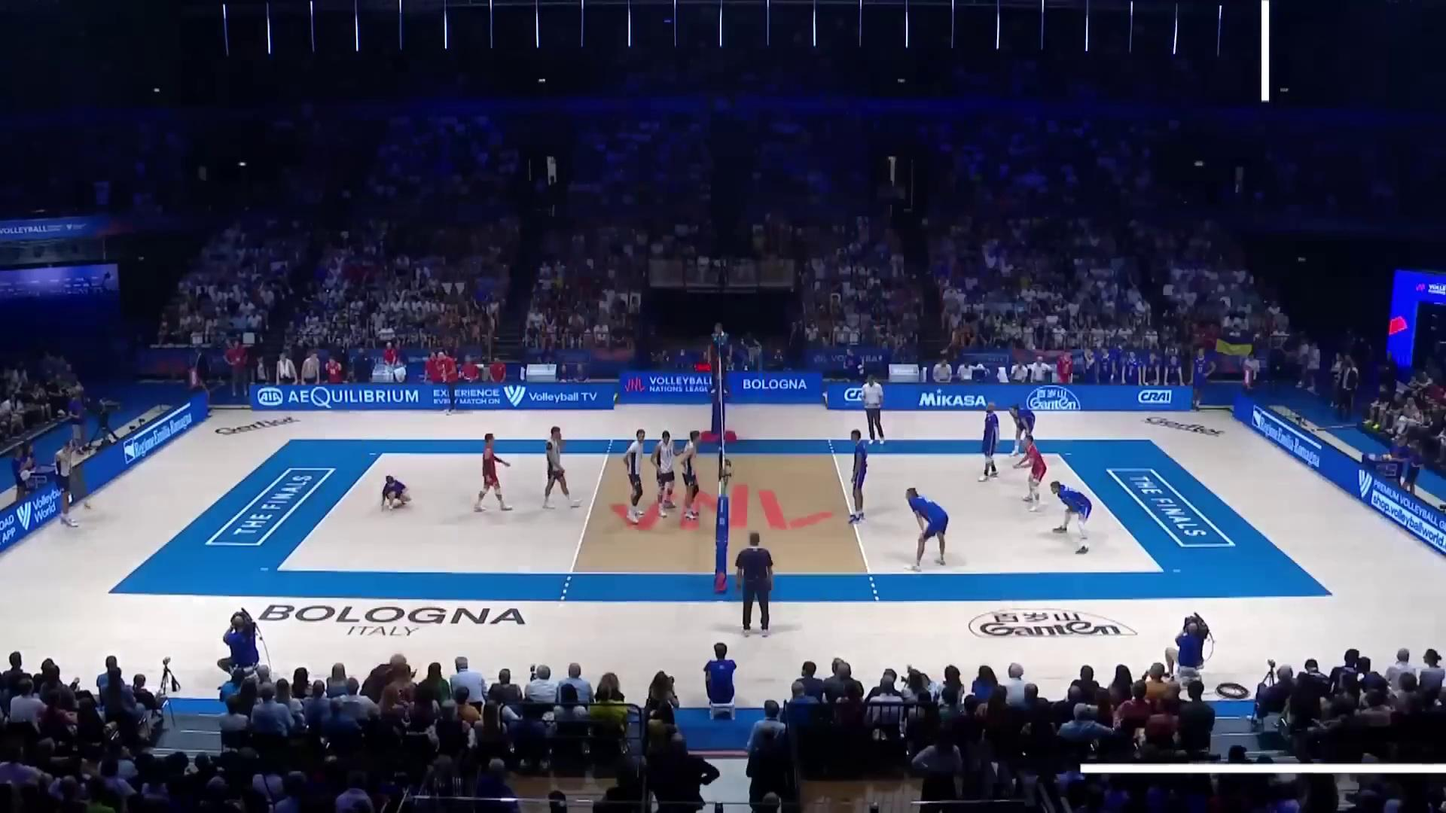player: (903, 488, 953, 574), (540, 426, 583, 510), (1049, 480, 1094, 554), (472, 434, 514, 513), (53, 439, 88, 529), (622, 429, 648, 524), (1017, 435, 1046, 514), (652, 428, 677, 519), (679, 430, 703, 524), (848, 429, 870, 523), (1008, 403, 1038, 461), (980, 403, 1001, 482)
refree: (734, 532, 776, 638), (711, 323, 732, 394)
